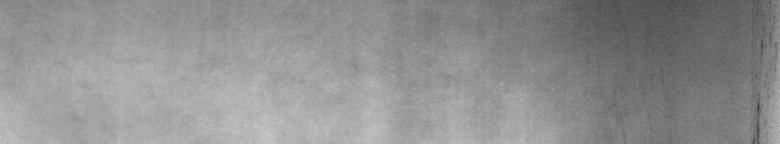ka: (748, 28, 776, 136)
